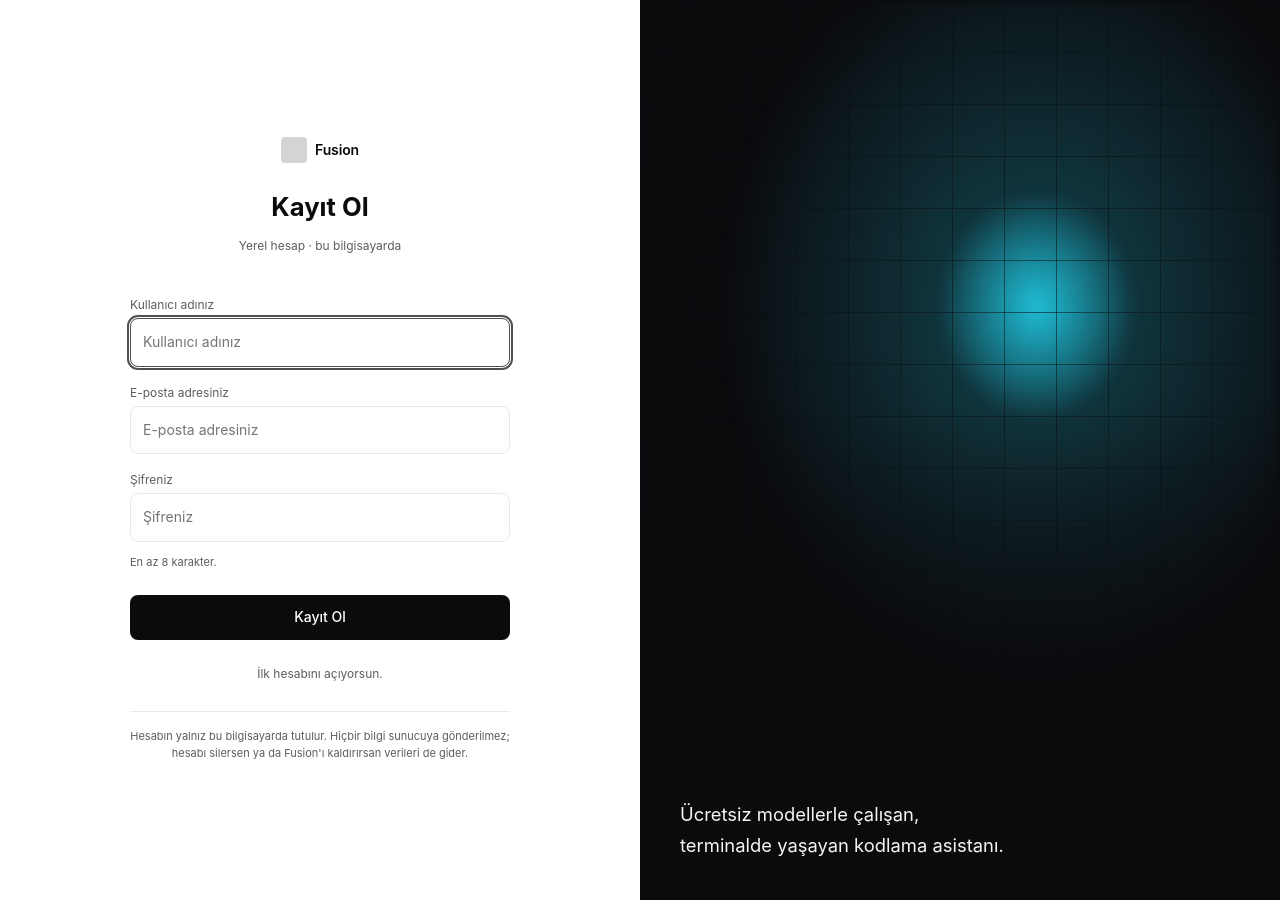
AccountGate › kurtarma kodu kopyalanmadan devam edilemez
Type "kullanici" into the field labelled "Kullanıcı adınız".
click(320, 342); type("kullanici")  # box x1=130 y1=318 x2=510 y2=367
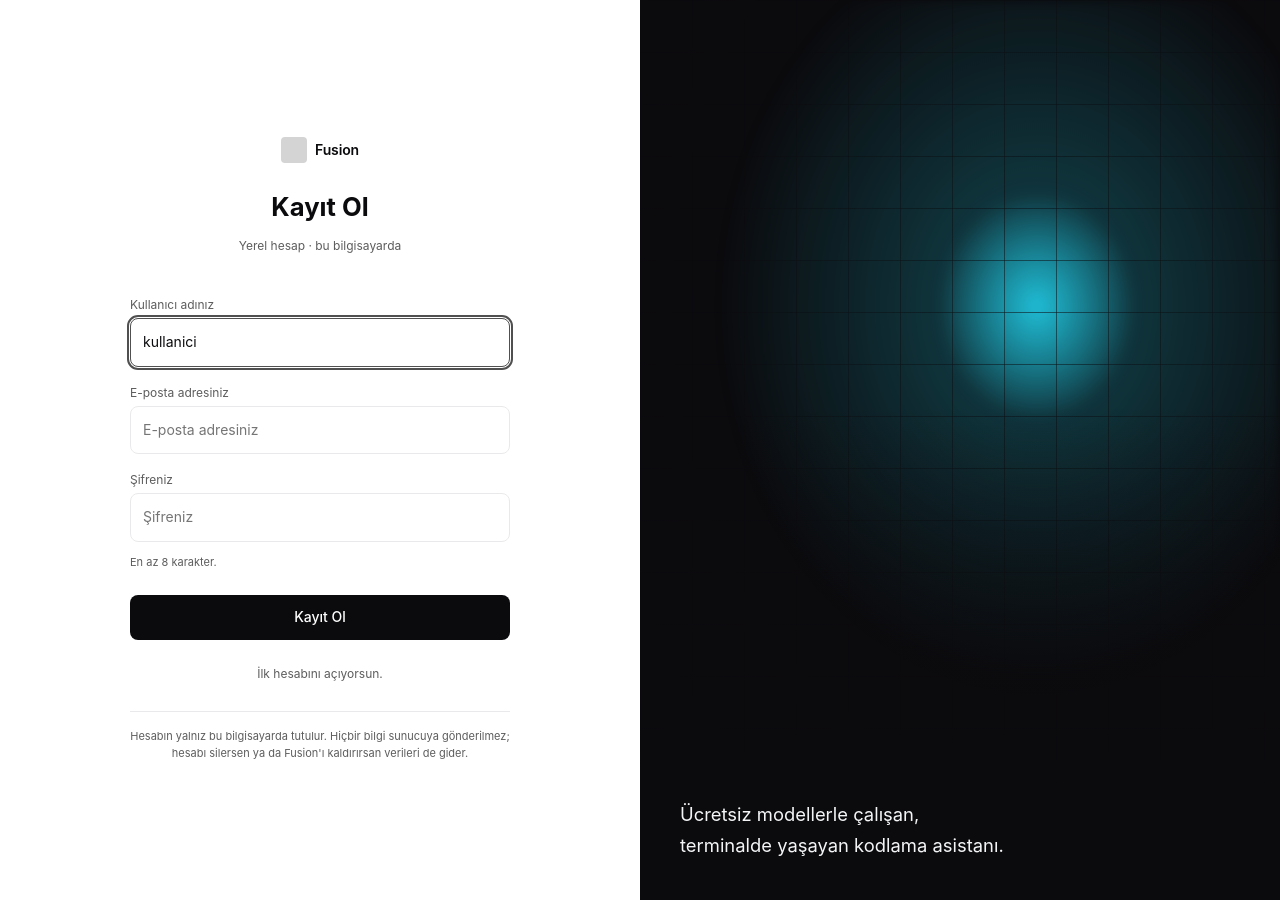
Type "e@ornek.com" into the field labelled "E-posta adresiniz".
click(320, 430); type("e@ornek.com")  # box x1=130 y1=406 x2=510 y2=454
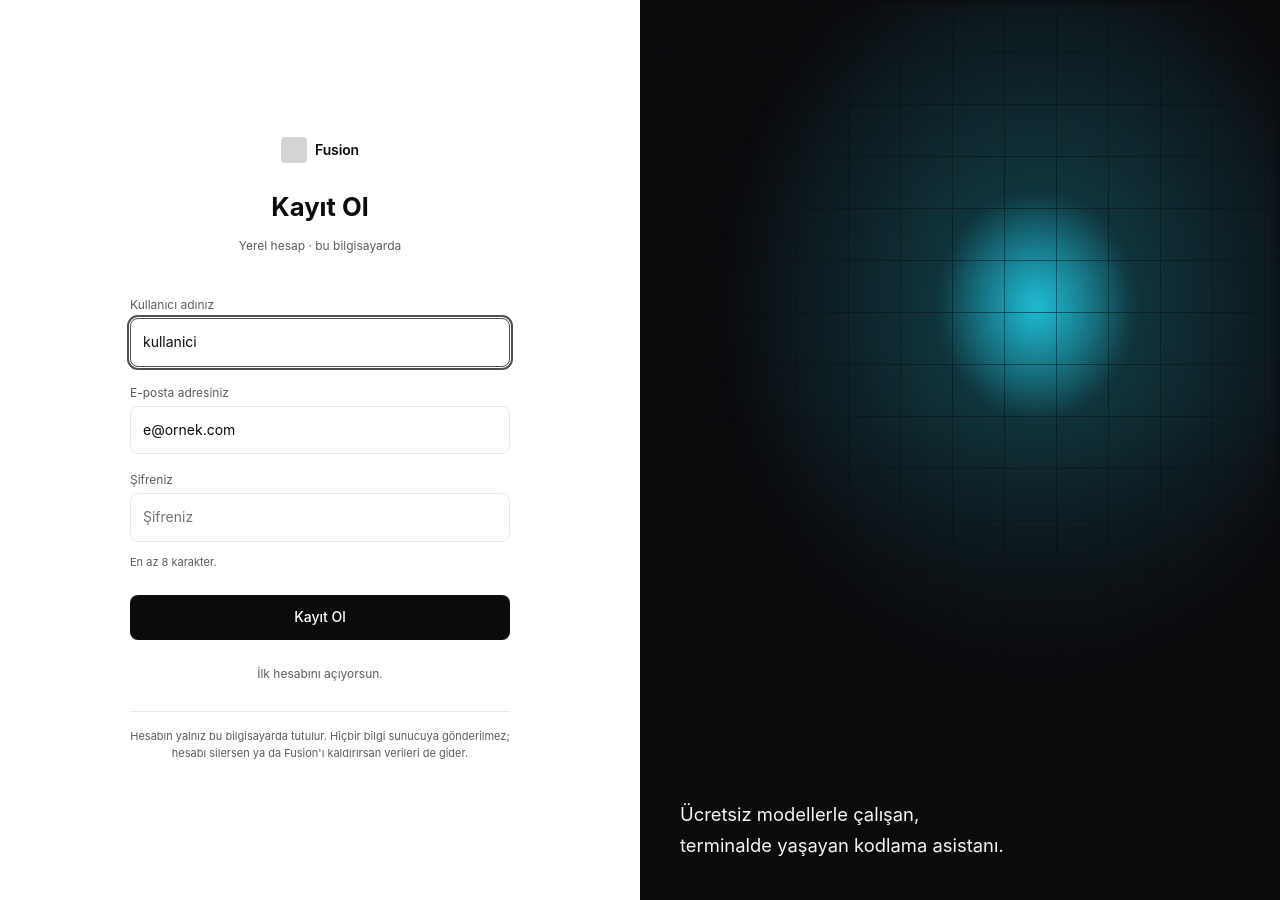
Type "parola1234" into the password field labelled "Şifreniz".
click(320, 518); type("parola1234")  # box x1=130 y1=494 x2=510 y2=542
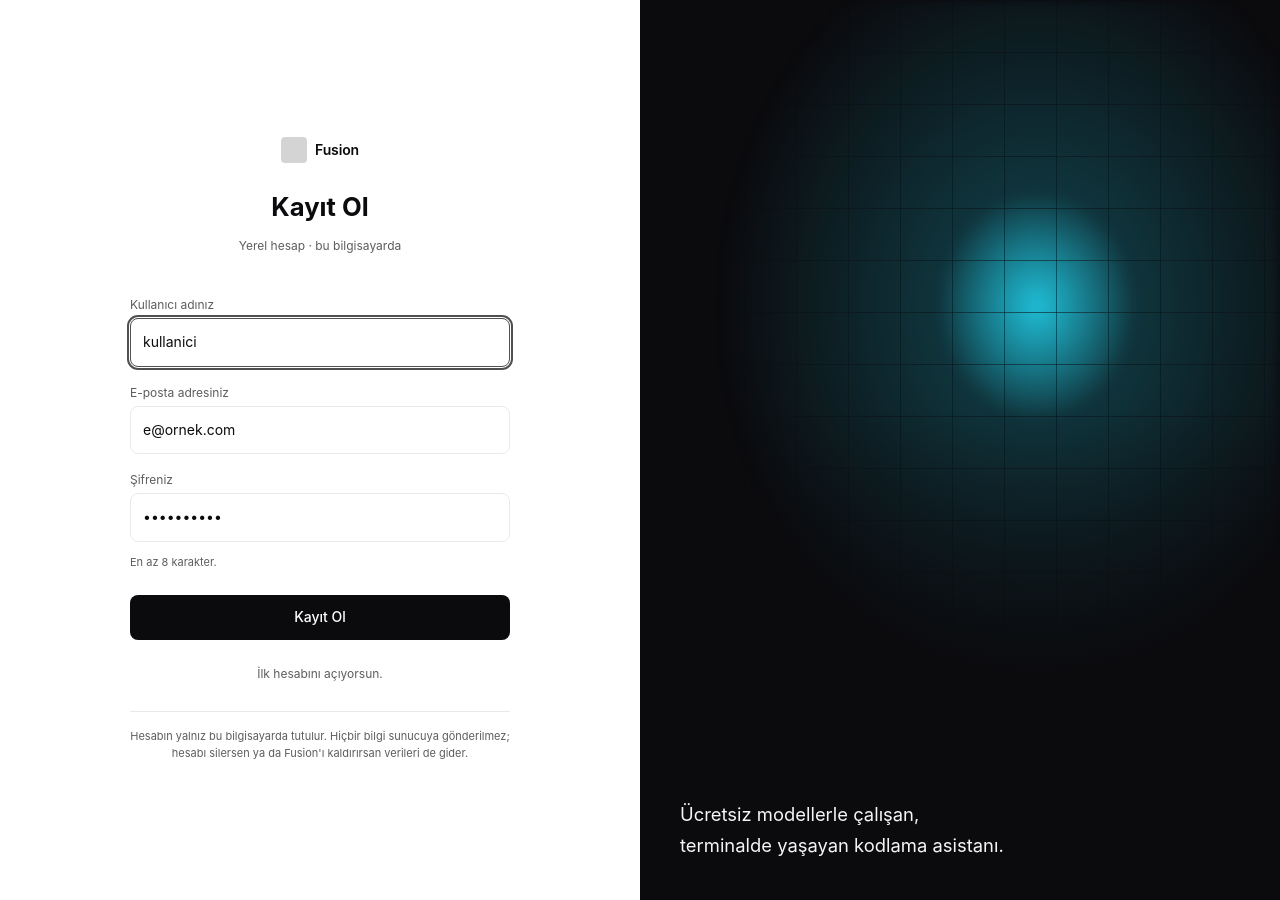
Click the button "Kayıt Ol".
click(320, 618)  # box x1=130 y1=595 x2=510 y2=640
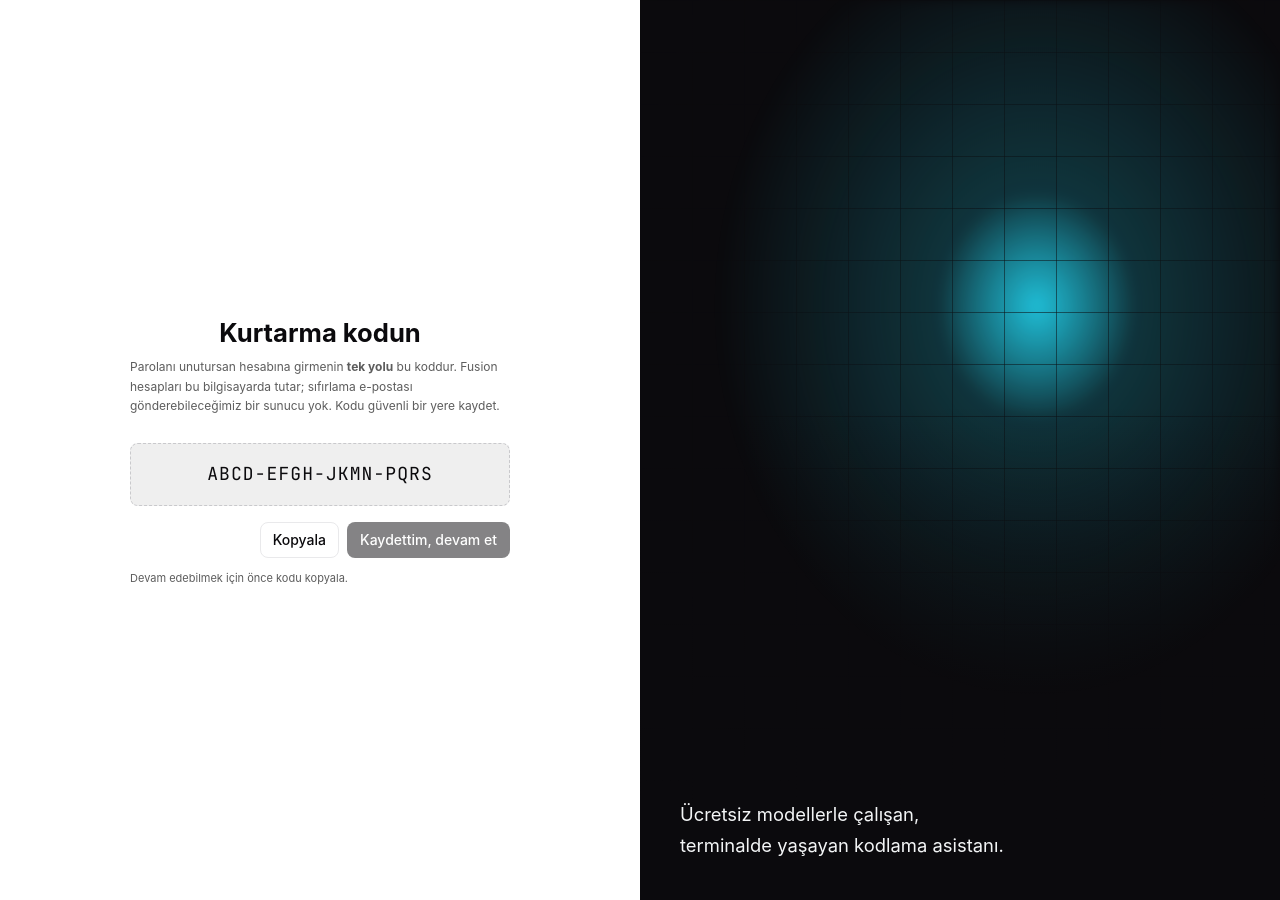
Check: the text "ABCD-EFGH-JKMN-PQRS" is shown, box x1=130 y1=443 x2=510 y2=506
Check: the button "Kaydettim, devam et" is disabled, box x1=347 y1=522 x2=510 y2=558
